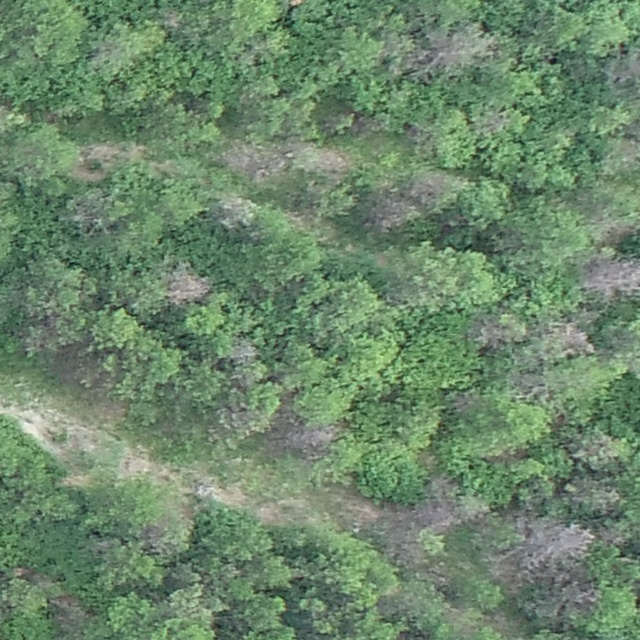unhealthy: (508, 519, 596, 580), (417, 24, 495, 73), (584, 253, 640, 302), (220, 140, 287, 179), (74, 137, 142, 174), (163, 265, 213, 306), (366, 192, 413, 232), (548, 577, 599, 613), (69, 188, 111, 231), (574, 480, 624, 515), (214, 192, 256, 231), (288, 425, 340, 455), (468, 314, 511, 349), (604, 50, 639, 89), (554, 320, 593, 355), (409, 169, 450, 202), (593, 215, 638, 244), (415, 500, 457, 531), (314, 145, 353, 178), (225, 337, 259, 363), (426, 474, 457, 498), (598, 525, 629, 546)
